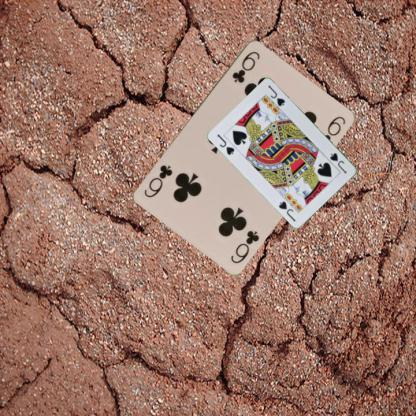6c: (228, 227, 260, 265), (229, 48, 261, 84)
Js: (215, 131, 236, 157), (328, 150, 348, 175)
